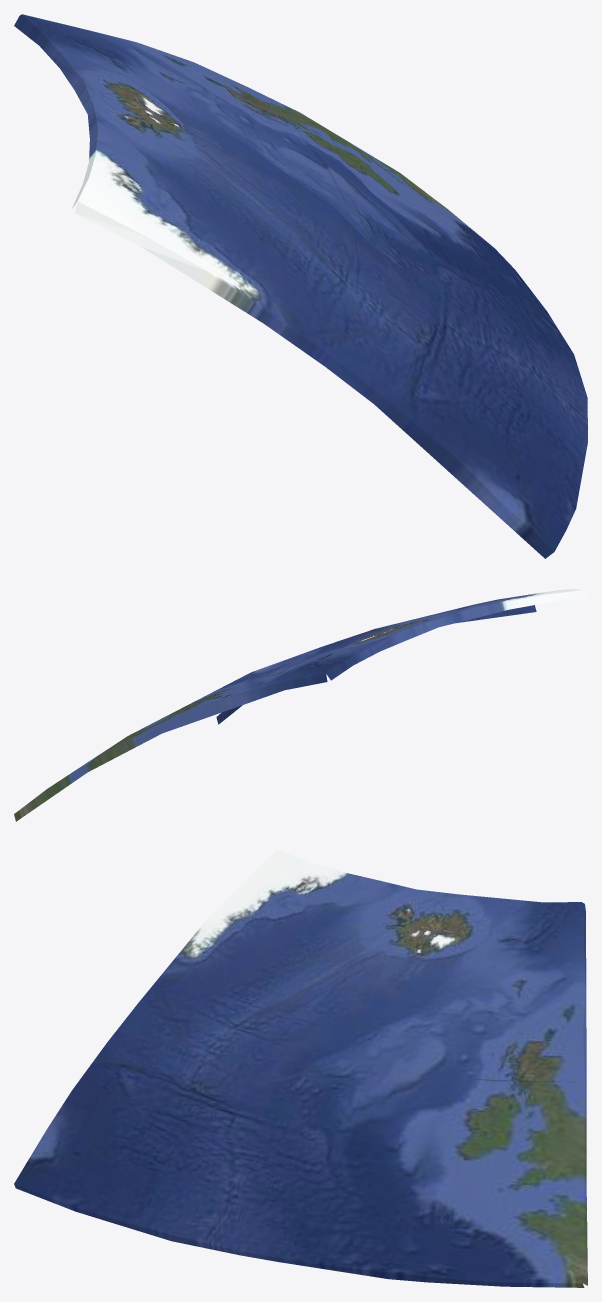
3 renders of one model, top to bottom at view 1: azimuth 30°, elevation 25°; view 2: azimuth 150°, elevation 25°; view 3: azimuth 270°, elevation 25°, orthographic. The views are drawn at different scales.
Size of the model in its own units: 2826908 by 1445541 by 3230435.
Materials: 1 (1 with a texture image).
